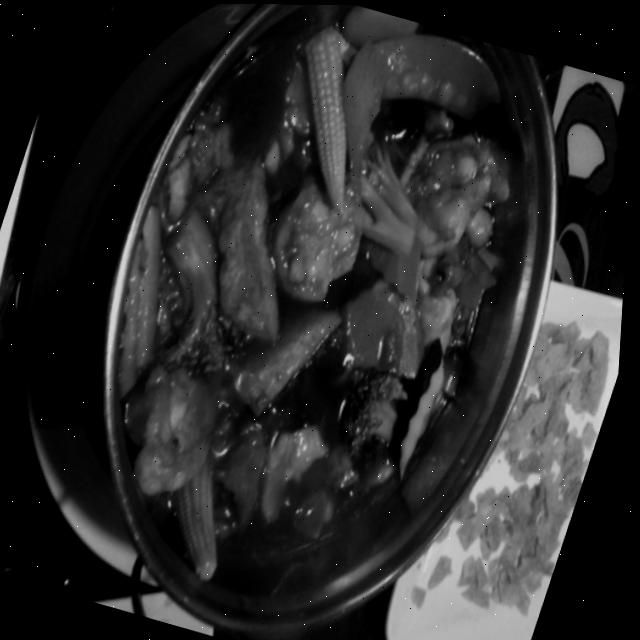汤锅炖物: (9, 0, 635, 640)
